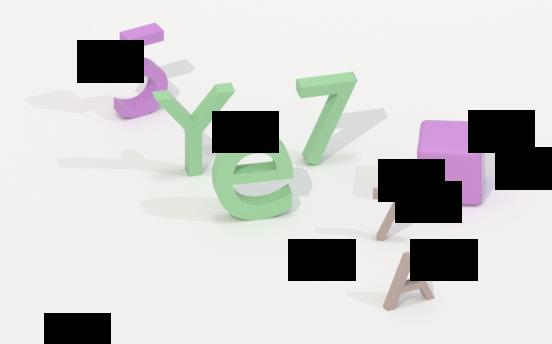5: (113, 19, 174, 122)
7: (288, 70, 360, 169), (368, 184, 414, 242)
A-hoa: (377, 249, 442, 317)
Y-hoa: (143, 86, 236, 181)
e: (207, 132, 300, 220)
hop: (408, 117, 493, 207)
